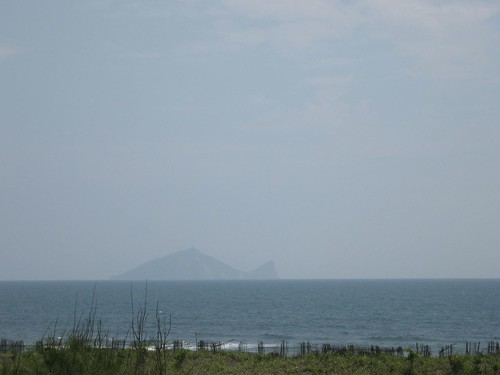turtleIsland: (109, 246, 281, 280)
